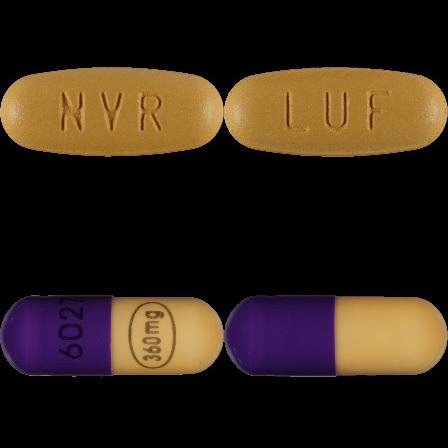54868-5983: (0, 0, 224, 224)
